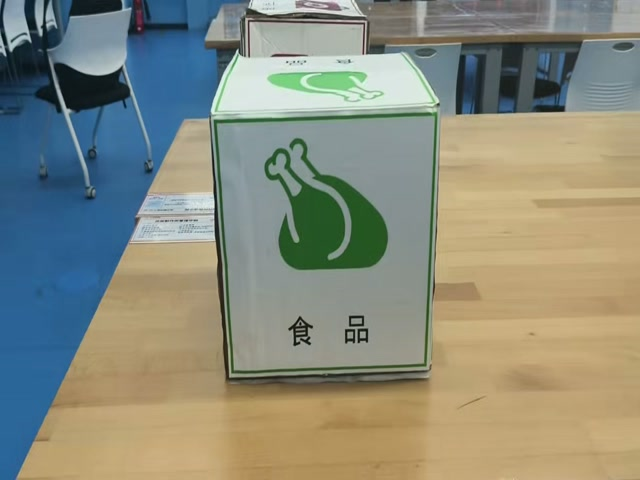Cube_food: (209, 56, 437, 126)
Cube_medicine: (241, 0, 373, 23)
